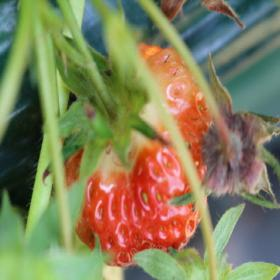Gray Mold: (200, 53, 279, 203)
